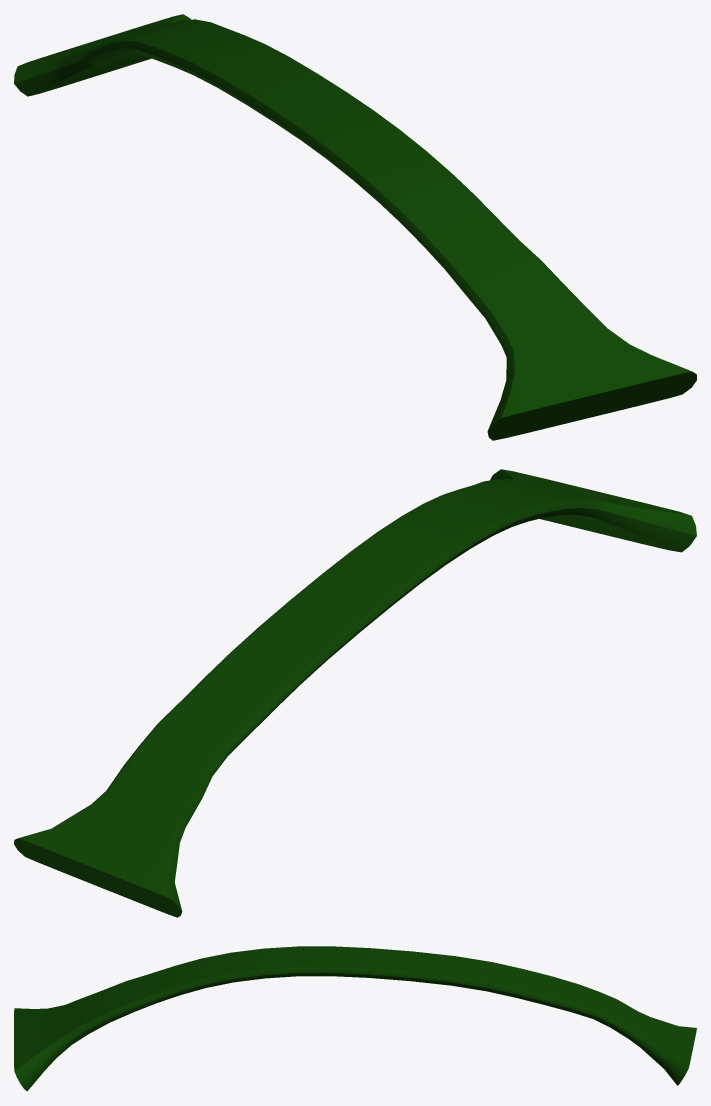
Rendered from OverheadColumn2.fbx.
3 views of the same model, one above another, from view 1: azimuth 30°, elevation 25°; view 2: azimuth 150°, elevation 25°; view 3: azimuth 270°, elevation 25° (orthographic). The views are drawn at different scales.
Parts seen in each view (by area): view 1: pasted__pasted__pCube1; view 2: pasted__pasted__pCube1; view 3: pasted__pasted__pCube1.
Part boxes in pixels (x1,y1,x2,y2): pasted__pasted__pCube1: [14, 14, 696, 440]; pasted__pasted__pCube1: [14, 469, 696, 917]; pasted__pasted__pCube1: [14, 946, 696, 1091].
Size of the model in its own units: 6.77 by 4.83 by 28.15.
